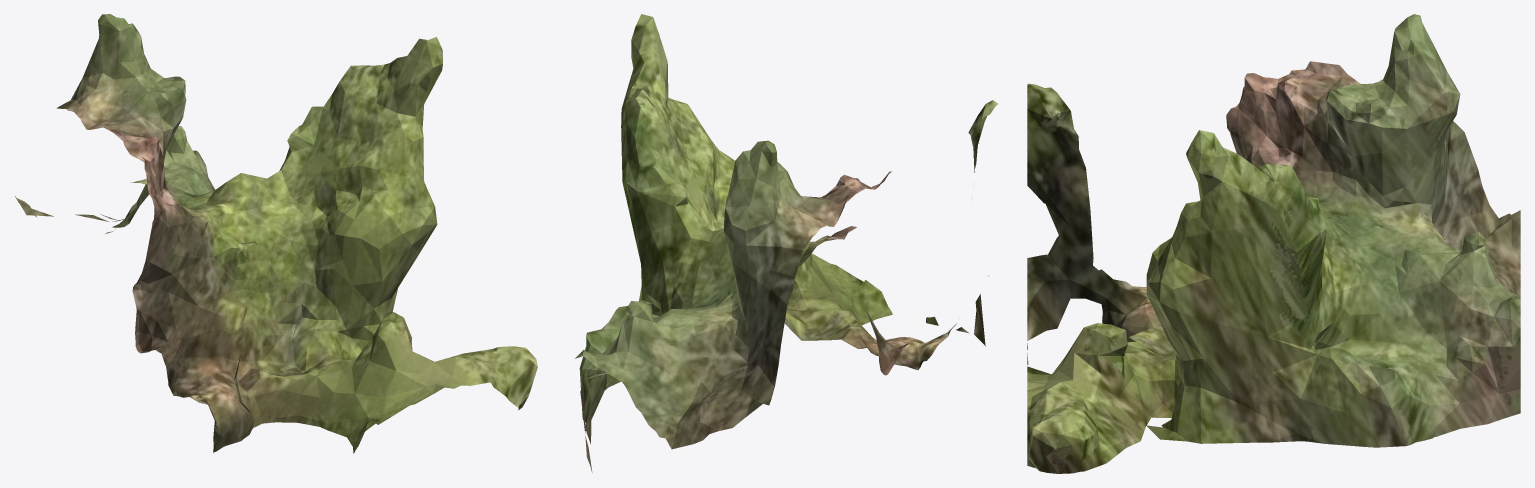
3 renders of one model, left to right at view 1: azimuth 30°, elevation 25°; view 2: azimuth 150°, elevation 25°; view 3: azimuth 270°, elevation 25°, orthographic. The views are drawn at different scales.
Bounding box in the file's own units: 2.14 × 2.21 × 2.95.
Materials: 4 (4 with a texture image).
